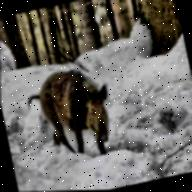boar: (4, 48, 118, 170)
